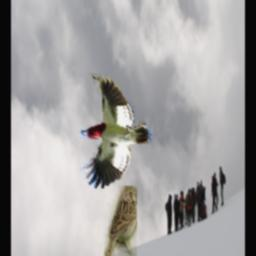Sparrow: (104, 187, 137, 256)
Woodpecker: (80, 75, 153, 190)
